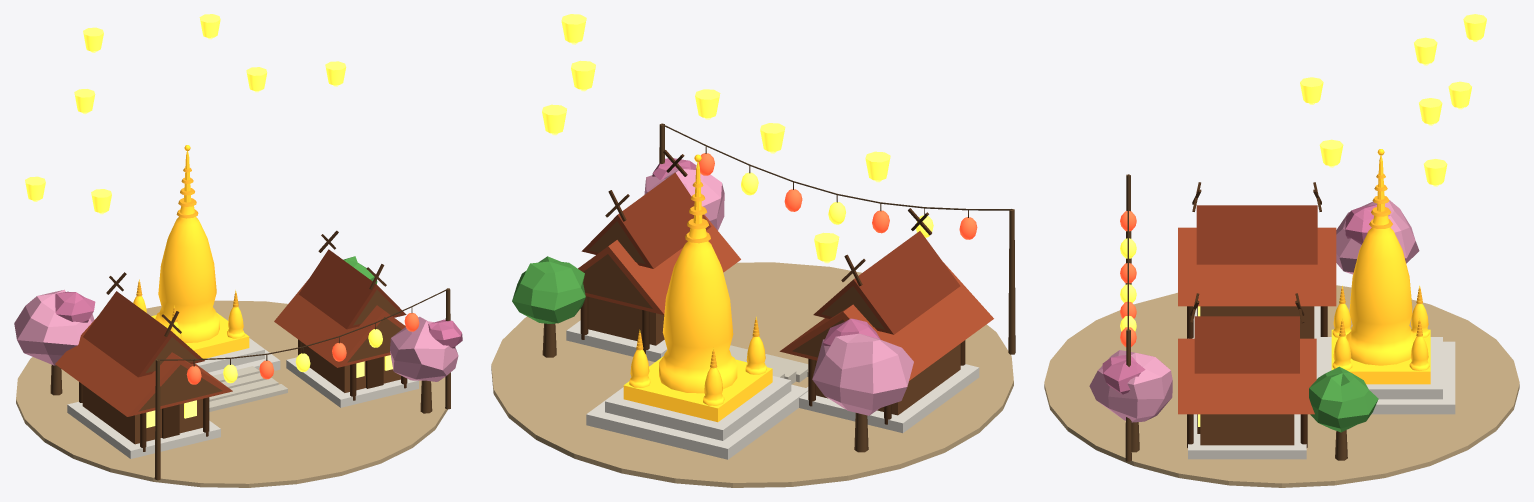
File: loc_chiangmai.glb
3 views of the same model, side by side, from view 1: azimuth 30°, elevation 25°; view 2: azimuth 150°, elevation 25°; view 3: azimuth 270°, elevation 25° (orthographic). The views are drawn at different scales.
Visible parts, largest first — view 1: Body_Plaza, Body_Terracotta, Body_Gold, Body_RoofDark, Body_Teak, Body_Pink, Body_White, Body_LanternYellow, Body_TeakDark, Body_Stone, Body_Trunk, Body_PinkDark (+4 smaller); view 2: Body_Plaza, Body_Gold, Body_White, Body_RoofDark, Body_Terracotta, Body_Teak, Body_Pink, Body_LanternYellow, Body_Leaf, Body_Trunk, Body_TeakDark, Body_LanternRed (+4 smaller); view 3: Body_Plaza, Body_Terracotta, Body_RoofDark, Body_Gold, Body_White, Body_Pink, Body_Teak, Body_LanternYellow, Body_Leaf, Body_PinkDark, Body_TeakDark, Body_Trunk (+2 smaller).
Boxes of the visible parts, x1,y1,x2,y2 form: Body_Plaza: (16,300,447,487); Body_Terracotta: (55,279,405,416); Body_Gold: (133,145,249,358); Body_RoofDark: (83,249,406,377); Body_Teak: (82,290,401,444); Body_Pink: (14,289,458,381); Body_White: (67,338,418,458); Body_LanternYellow: (25,14,382,383); Body_TeakDark: (79,230,407,451); Body_Stone: (209,366,287,411); Body_Trunk: (50,288,450,480); Body_PinkDark: (55,291,462,348); Body_Plaza: (491,262,1013,487); Body_Gold: (623,154,772,422); Body_White: (566,320,979,459); Body_RoofDark: (581,172,960,334); Body_Terracotta: (578,214,993,380); Body_Teak: (583,221,960,415); Body_Pink: (644,169,913,415); Body_LanternYellow: (542,14,933,261); Body_Leaf: (512,256,585,323); Body_Trunk: (542,123,1015,452); Body_TeakDark: (580,150,965,424); Body_LanternRed: (698,153,977,239); Body_Plaza: (1044,285,1519,487); Body_Terracotta: (1178,227,1336,414); Body_RoofDark: (1194,205,1317,373); Body_Gold: (1331,149,1430,384); Body_White: (1188,306,1455,459); Body_Pink: (1089,200,1419,422); Body_Teak: (1200,306,1314,445); Body_LanternYellow: (1120,14,1486,331); Body_Leaf: (1309,366,1378,432); Body_PinkDark: (1102,204,1376,394); Body_TeakDark: (1187,182,1327,447); Body_Trunk: (1125,174,1347,461).
Bounding box in the file's own units: 9.6 × 7.6 × 9.6.
